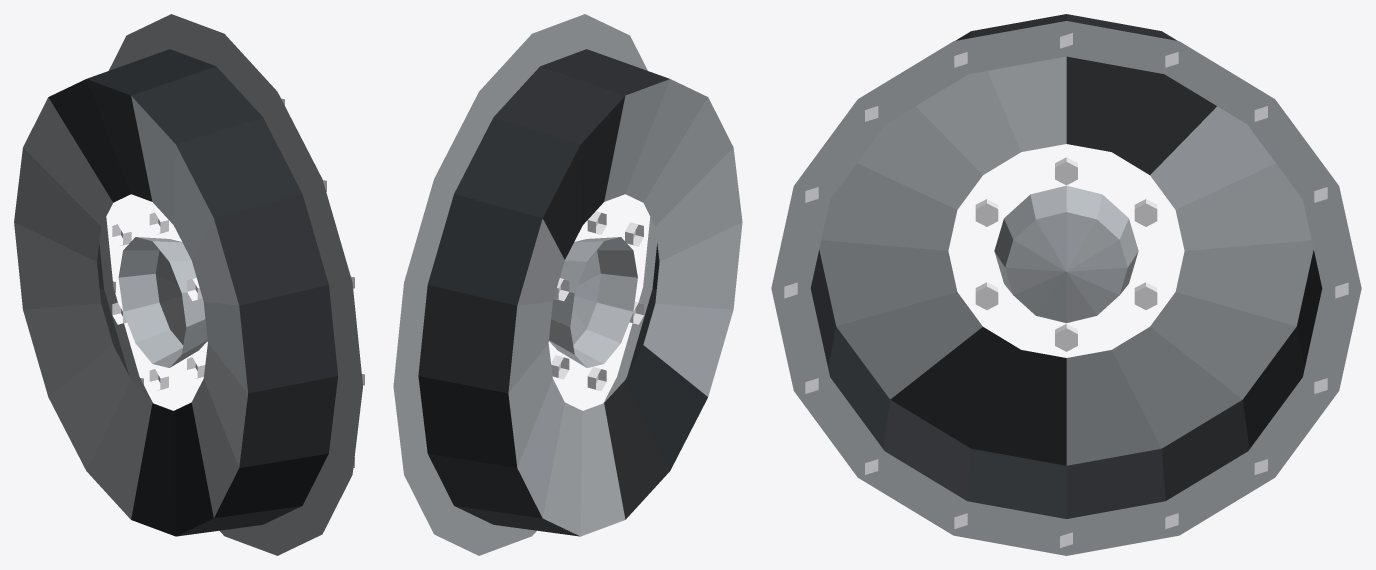
File: rim_01_offroad_beadlock.obj
3 renders of one model, left to right at view 1: azimuth 30°, elevation 25°; view 2: azimuth 150°, elevation 25°; view 3: azimuth 270°, elevation 25°, orthographic. The views are drawn at different scales.
Visible parts, largest first — view 1: rim_01_offroad_beadlock; view 2: rim_01_offroad_beadlock; view 3: rim_01_offroad_beadlock.
Boxes of the visible parts, <box> form: rim_01_offroad_beadlock: <box>14,14,364,555</box>; rim_01_offroad_beadlock: <box>393,14,742,555</box>; rim_01_offroad_beadlock: <box>771,14,1361,555</box>.
Size of the model in its own units: 0.1188 by 0.5625 by 0.5625.
